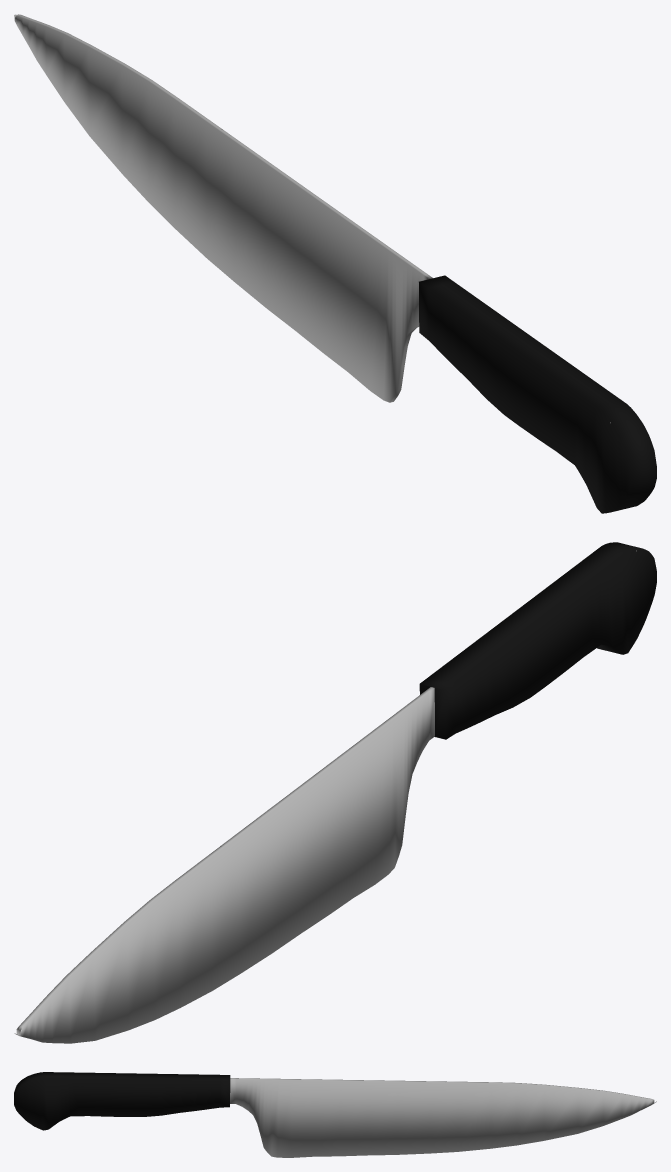
The model's file is knife.fbx.
3 renders of one model, top to bottom at view 1: azimuth 30°, elevation 25°; view 2: azimuth 150°, elevation 25°; view 3: azimuth 270°, elevation 25°, orthographic. The views are drawn at different scales.
Visible parts, largest first — view 1: Knife Model; view 2: Knife Model; view 3: Knife Model.
Part boxes in pixels (x1,y1,x2,y2): Knife Model: (14, 14, 656, 513); Knife Model: (14, 542, 656, 1043); Knife Model: (14, 1072, 656, 1157).
Bounding box in the file's own units: 0.0104 × 0.0588 × 0.4184.
